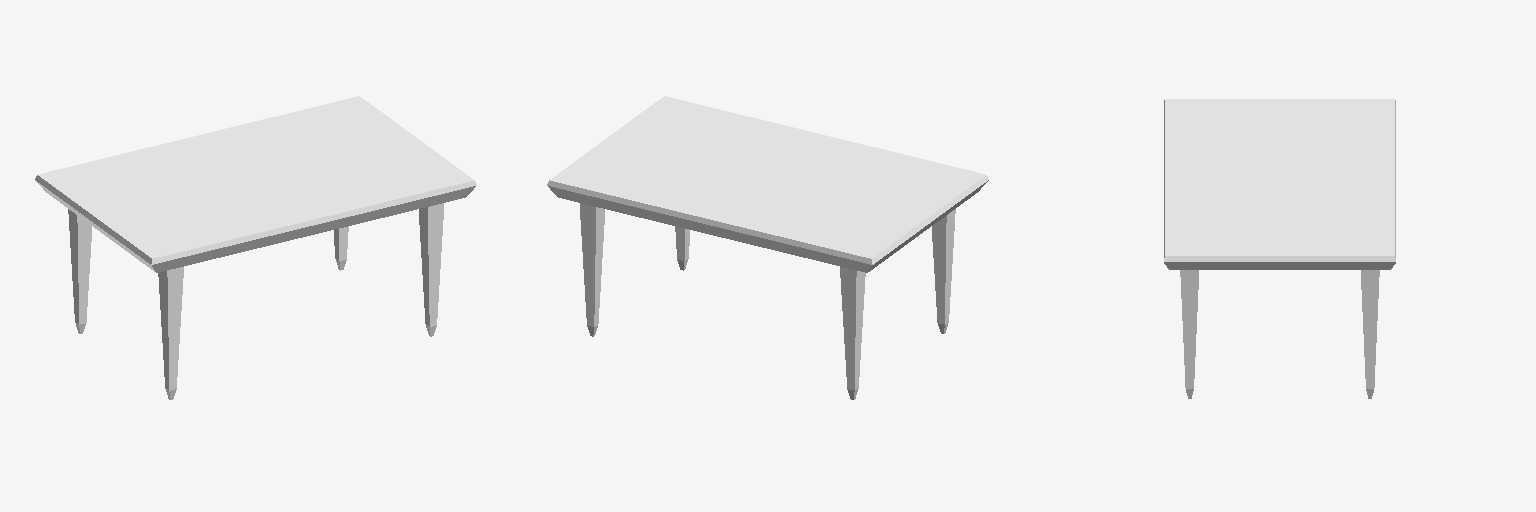
The model's file is table_small.obj.
3 views of the same model, side by side, from view 1: azimuth 30°, elevation 25°; view 2: azimuth 150°, elevation 25°; view 3: azimuth 270°, elevation 25° (orthographic).
Visible parts, largest first — view 1: tavolo1_Cube.004; view 2: tavolo1_Cube.004; view 3: tavolo1_Cube.004.
Part boxes in pixels (bbox=[...]): tavolo1_Cube.004: bbox=[35, 96, 476, 399]; tavolo1_Cube.004: bbox=[547, 96, 988, 399]; tavolo1_Cube.004: bbox=[1164, 99, 1395, 398].
Size of the model in its own units: 1.84 by 0.8472 by 1.14.